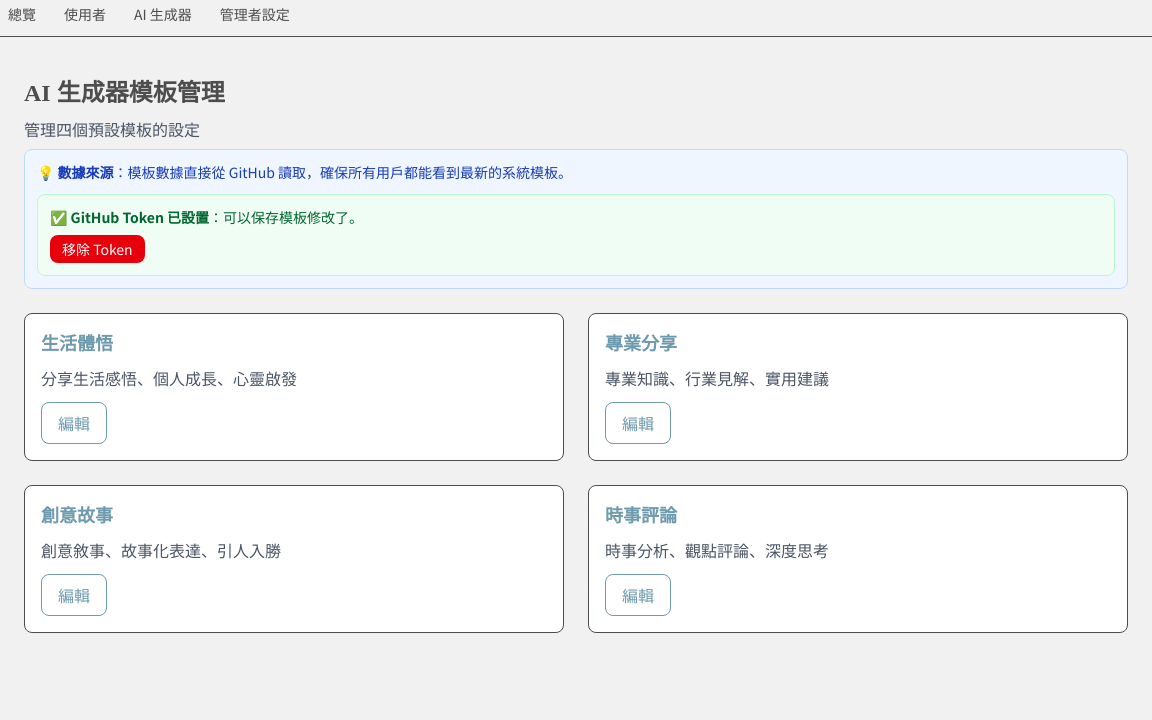
Test: AIGenerator 模板持久化修復功能 › 模板編輯和保存 › 應該能夠編輯模板並保存到 localStorage
The width and height of the screenshot is (1152, 720).
Click the button "編輯" below "分享生活感悟、個人成長、心靈啟發". click: (74, 423)
box: [41, 402, 107, 444]
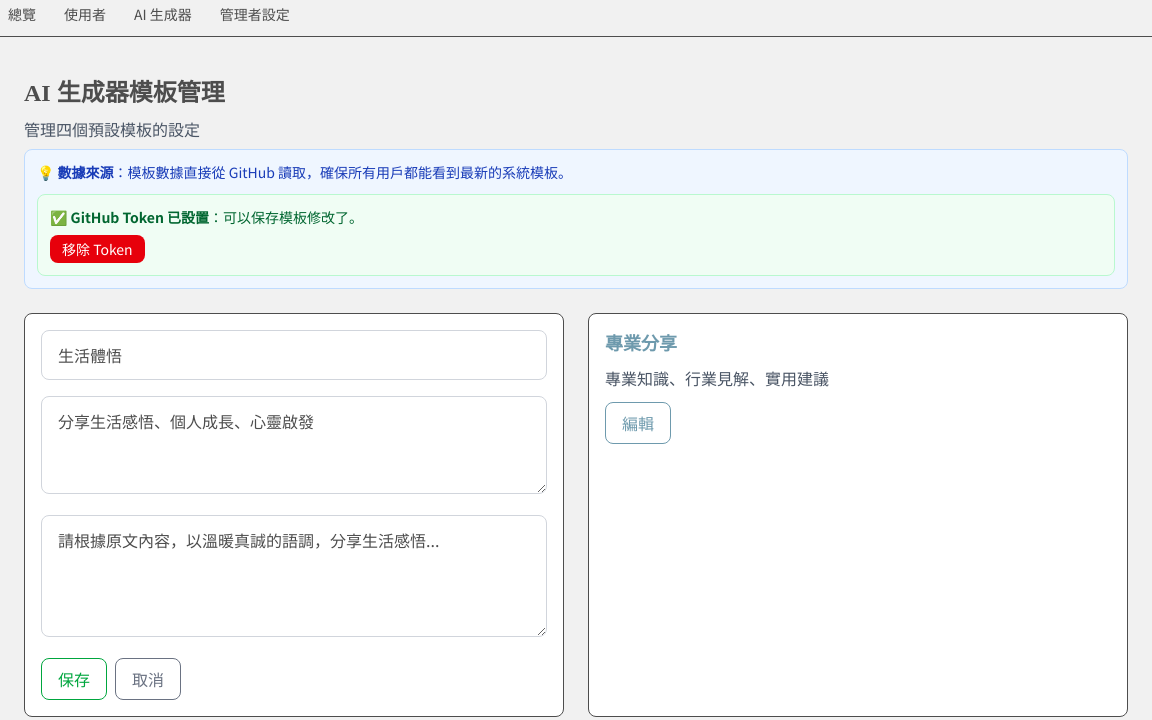
Replace the text in the field showing "生活體悟" with "測試標題". click: (294, 355)
box: [41, 330, 547, 380]
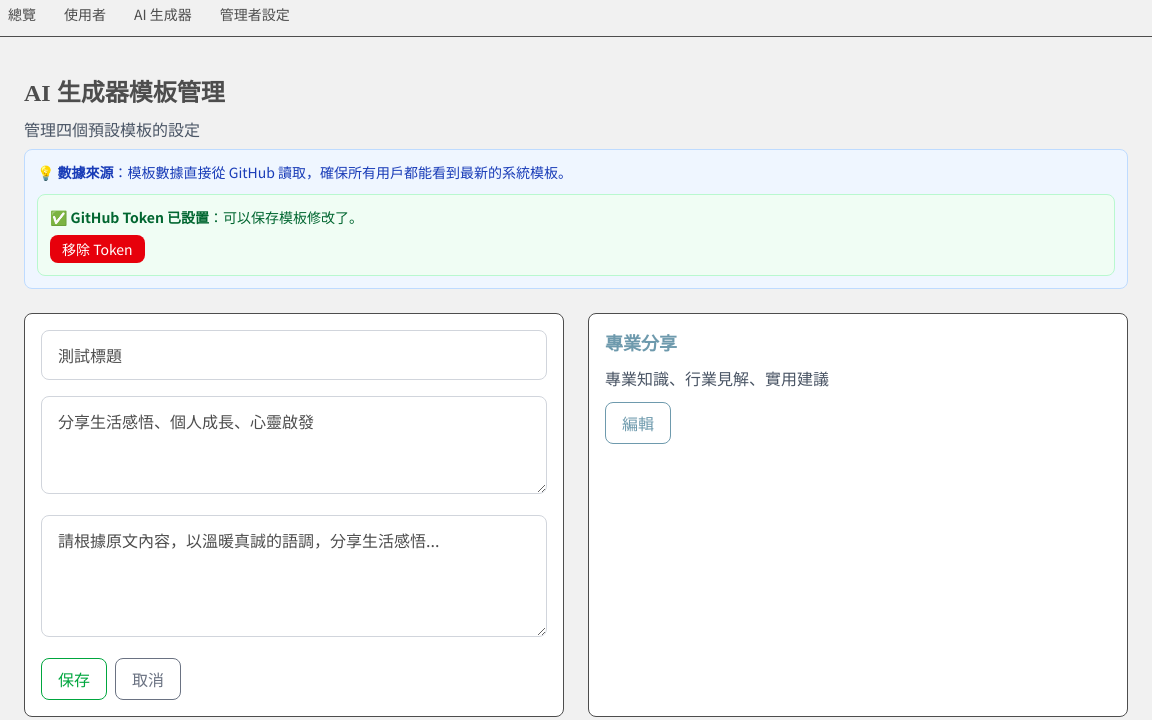
Replace the text in the 1st text box showing "分享生活感悟、個人成長、心靈啟發" with "測試描述". click: (294, 445)
box: [41, 396, 547, 494]
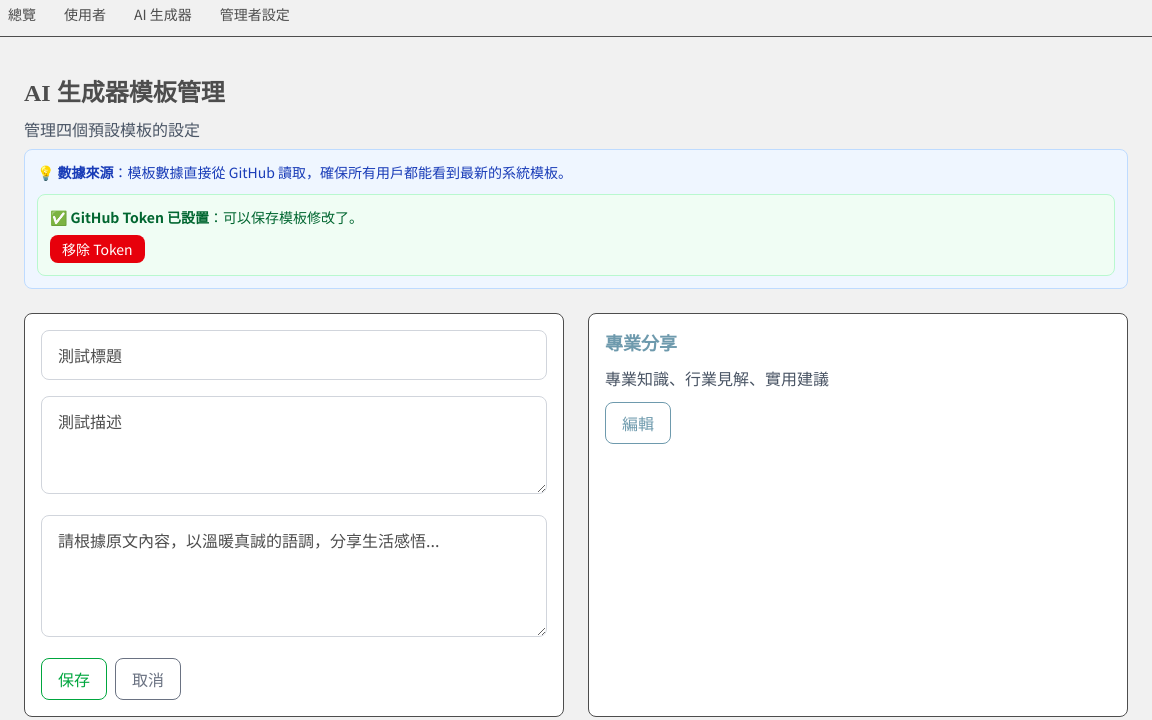
Replace the text in the 2nd text box showing "請根據原文內容，以溫暖真誠的語調，分享生活感悟" with "測試提示詞". click: (294, 576)
box: [41, 515, 547, 637]
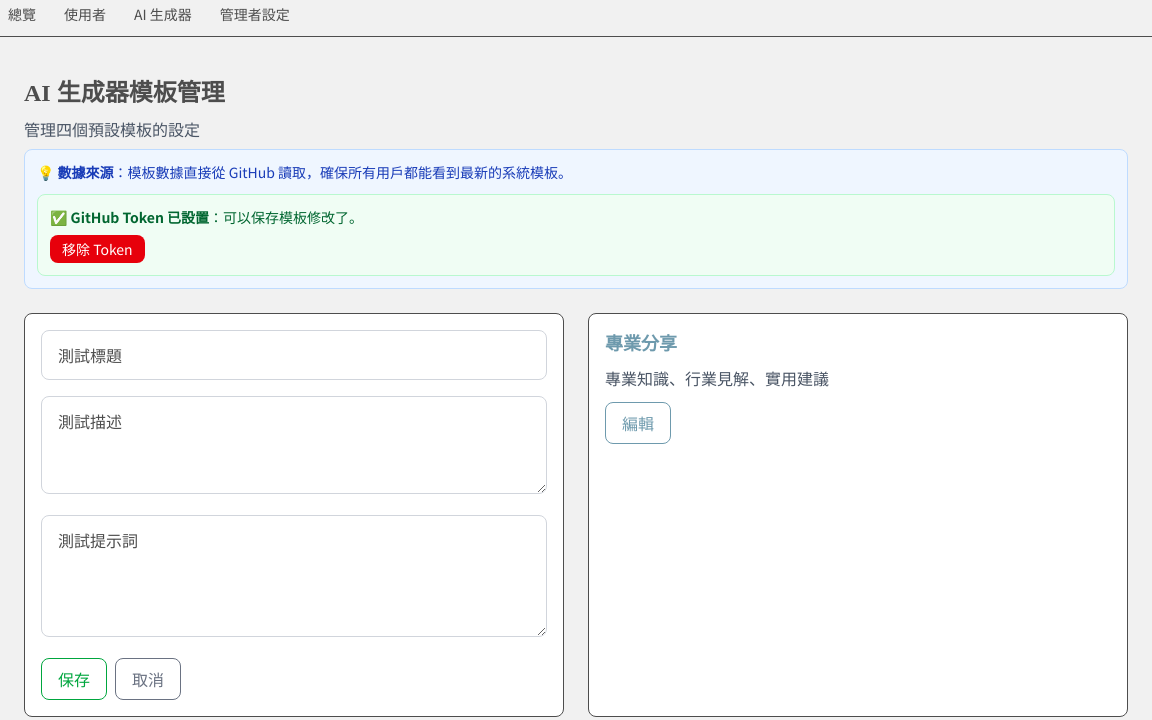
Click the button "保存". click: (74, 679)
box: [41, 658, 107, 700]
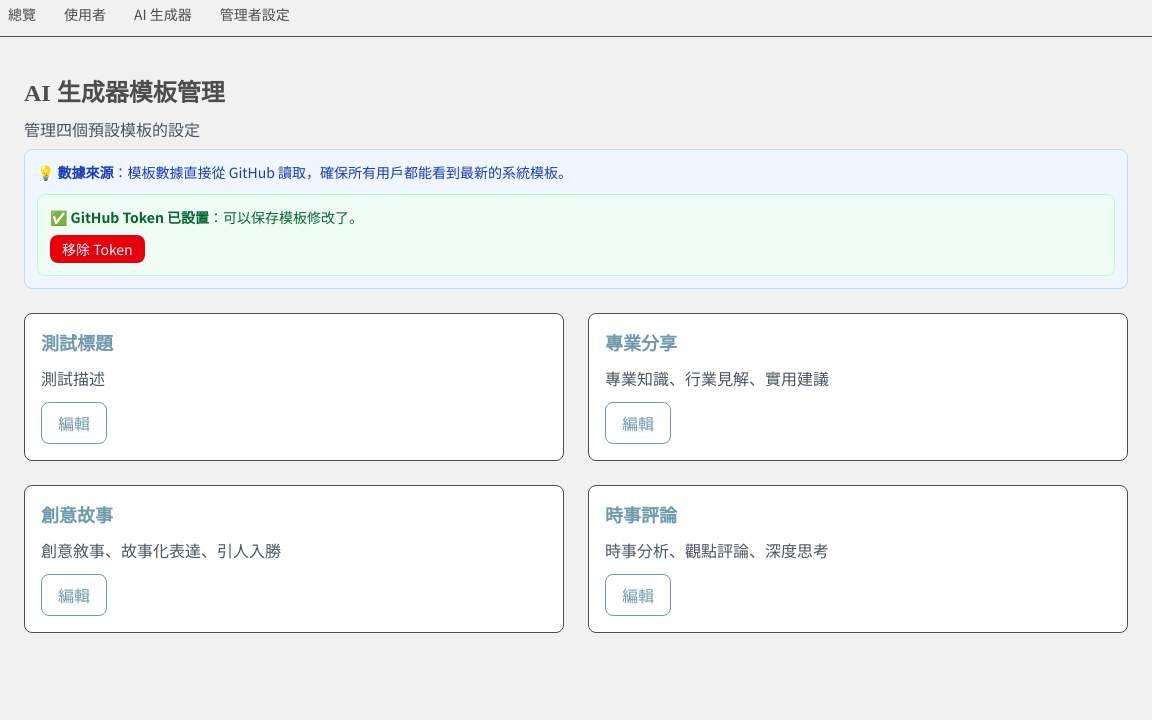
Now the button "編輯" below "測試描述" is shown, box [41, 402, 107, 444]
